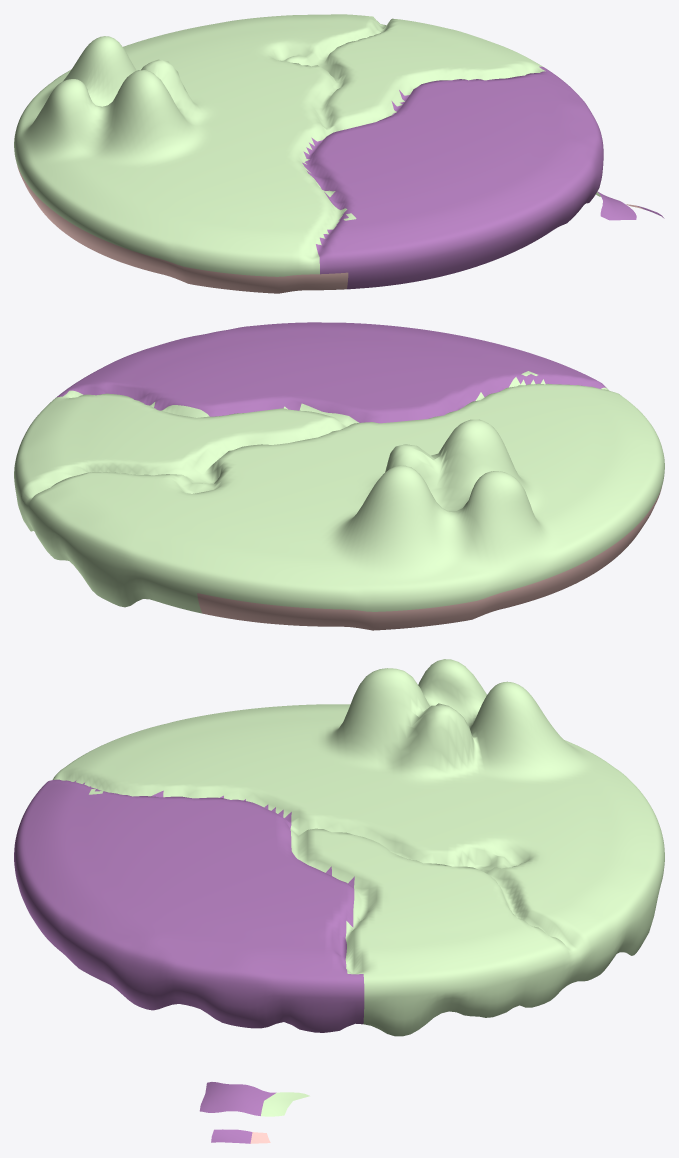
Rendered from IslandOben.fbx.
3 renders of one model, top to bottom at view 1: azimuth 30°, elevation 25°; view 2: azimuth 150°, elevation 25°; view 3: azimuth 270°, elevation 25°, orthographic. The views are drawn at different scales.
Visible parts, largest first — view 1: island; view 2: island; view 3: island.
Part boxes in pixels (x1,y1,x2,y2): island: (14,14,664,293); island: (14,322,664,630); island: (14,659,664,1143).
Bounding box in the file's own units: 362 × 126 × 323.
